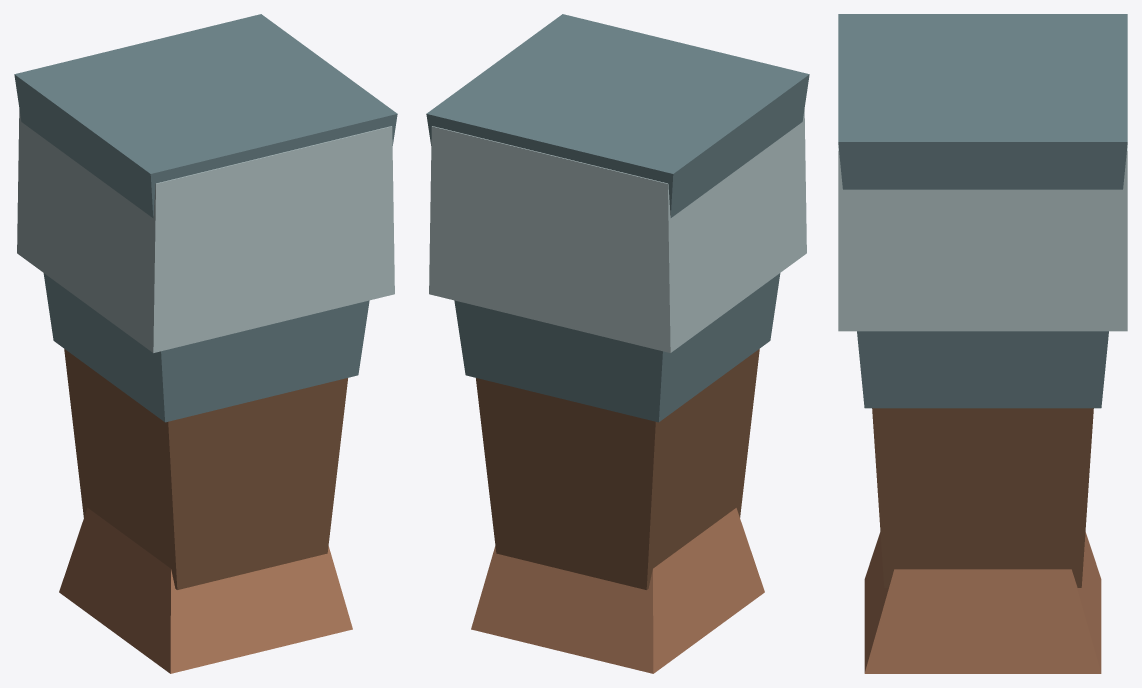
Rendered from adventurer_arm.obj.
3 views of the same model, side by side, from view 1: azimuth 30°, elevation 25°; view 2: azimuth 150°, elevation 25°; view 3: azimuth 270°, elevation 25° (orthographic). The views are drawn at different scales.
Visible parts, largest first — view 1: AdventurerArm; view 2: AdventurerArm; view 3: AdventurerArm.
Boxes of the visible parts, x1=… form: AdventurerArm: x1=14, y1=14, x2=397, y2=673; AdventurerArm: x1=426, y1=14, x2=809, y2=673; AdventurerArm: x1=838, y1=14, x2=1127, y2=673.
Bounding box in the file's own units: 0.46 × 0.92 × 0.44.
